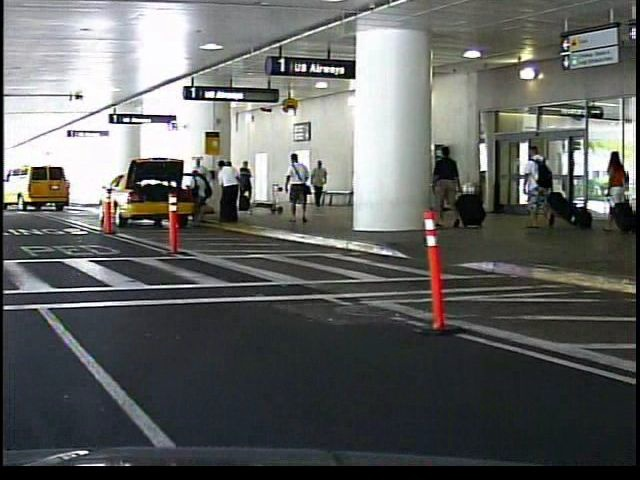person: (515, 142, 555, 232), (595, 145, 630, 231), (429, 141, 459, 229), (279, 151, 311, 224), (309, 159, 328, 209)
